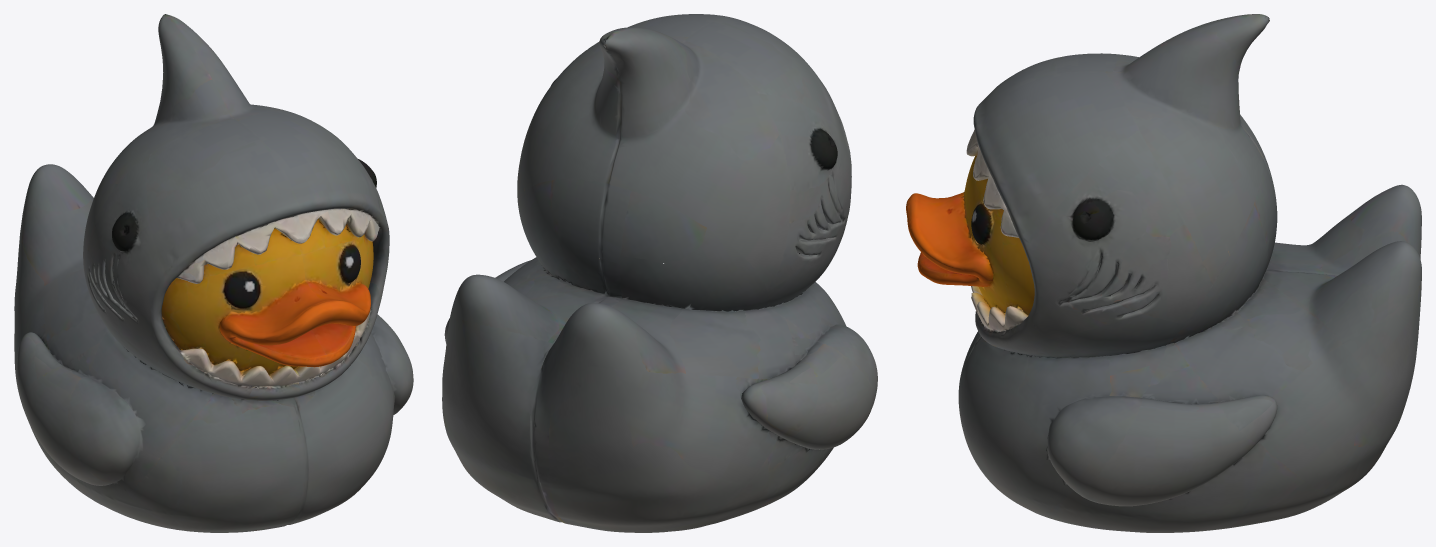
The model's file is morning-mascot.glb.
3 renders of one model, left to right at view 1: azimuth 30°, elevation 25°; view 2: azimuth 150°, elevation 25°; view 3: azimuth 270°, elevation 25°, orthographic. The views are drawn at different scales.
Visible parts, largest first — view 1: tripo_node_e52da73f-077b-487e-acf8-7a2eabb85106; view 2: tripo_node_e52da73f-077b-487e-acf8-7a2eabb85106; view 3: tripo_node_e52da73f-077b-487e-acf8-7a2eabb85106.
Part boxes in pixels (x1,y1,x2,y2): tripo_node_e52da73f-077b-487e-acf8-7a2eabb85106: (14,14,413,532); tripo_node_e52da73f-077b-487e-acf8-7a2eabb85106: (442,14,877,532); tripo_node_e52da73f-077b-487e-acf8-7a2eabb85106: (906,14,1421,532).
Size of the model in its own units: 26902 by 32055 by 32024.
1 material, 1 textured.
